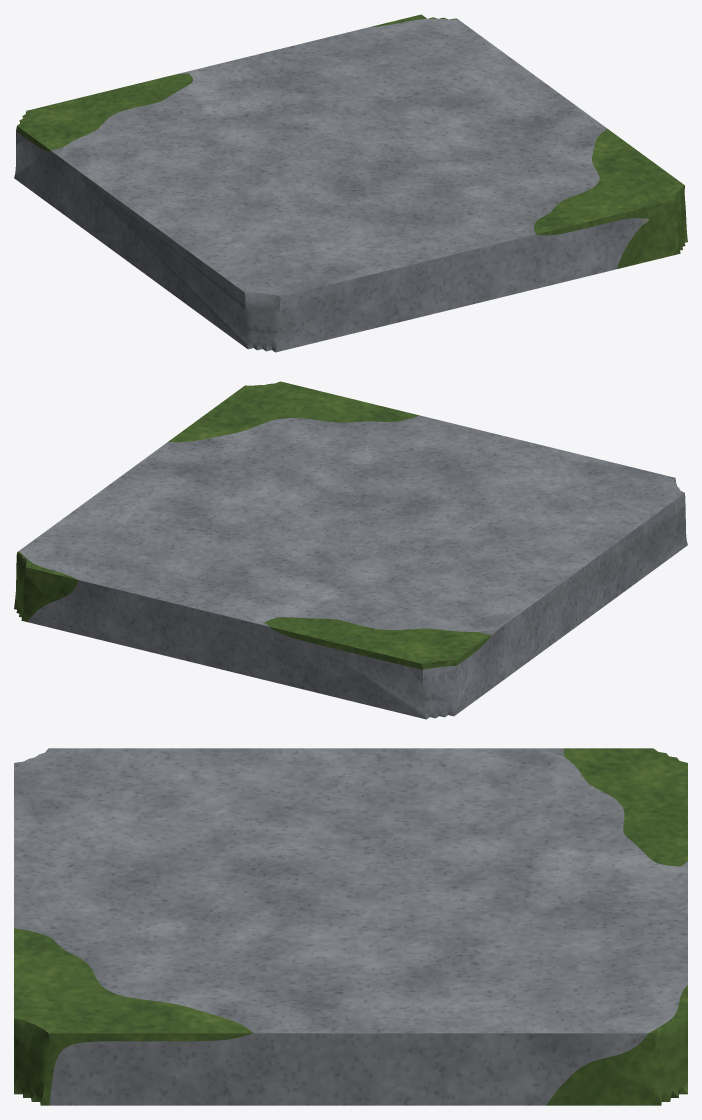
File: ruin_paving_cracked.glb
The picture shows the model from 3 angles, top to bottom: view 1: azimuth 30°, elevation 25°; view 2: azimuth 150°, elevation 25°; view 3: azimuth 270°, elevation 25°; orthographic projection. The views are drawn at different scales.
Parts seen in each view (by area): view 1: wilds_ruins_ruin_paving_cracked; view 2: wilds_ruins_ruin_paving_cracked; view 3: wilds_ruins_ruin_paving_cracked.
Boxes of the visible parts, x1=… form: wilds_ruins_ruin_paving_cracked: x1=14, y1=14, x2=687, y2=352; wilds_ruins_ruin_paving_cracked: x1=14, y1=381, x2=687, y2=719; wilds_ruins_ruin_paving_cracked: x1=14, y1=748, x2=687, y2=1105.
Size of the model in its own units: 0.9896 by 0.1172 by 0.9896.
3 materials, 3 textured.
